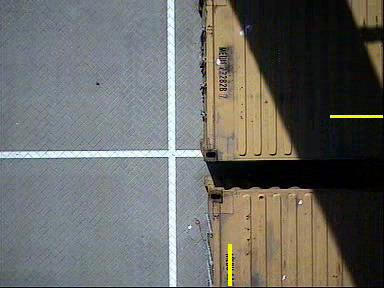groundmarker_2: (116, 188, 217, 263)
